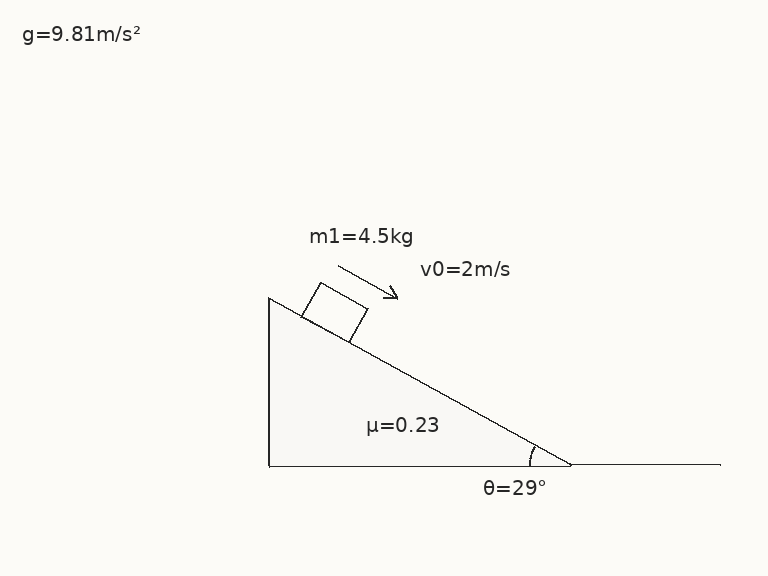block: (300, 280, 369, 344)
ramp: (266, 296, 572, 467)
